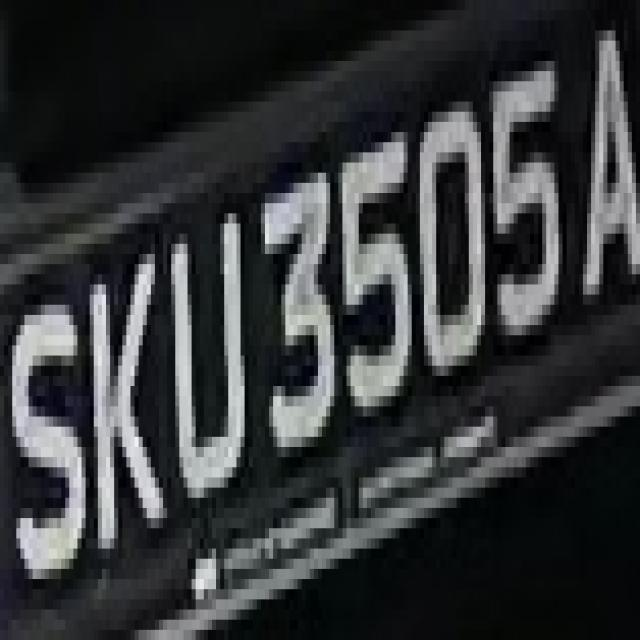0: (412, 81, 489, 406)
3: (253, 182, 334, 488)
5: (481, 61, 563, 366), (334, 132, 412, 437)
A: (575, 10, 636, 325)
K: (82, 234, 171, 548)
S: (8, 244, 82, 599)
U: (171, 193, 253, 528)
